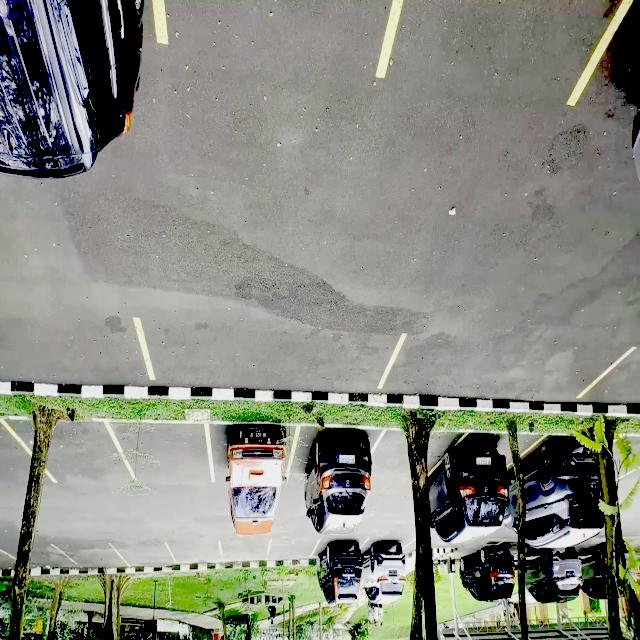empty: (385, 0, 623, 105), (140, 321, 392, 403), (152, 0, 400, 75), (387, 334, 604, 414), (0, 322, 149, 400), (23, 420, 124, 490), (120, 424, 211, 489), (607, 339, 640, 417), (0, 540, 61, 582), (62, 544, 120, 578), (122, 542, 175, 578), (169, 540, 221, 576), (222, 540, 271, 573), (268, 540, 315, 572), (0, 407, 21, 470)
occupied: (430, 432, 510, 536), (294, 428, 378, 517), (212, 426, 295, 515), (360, 538, 410, 602), (317, 540, 367, 597)
